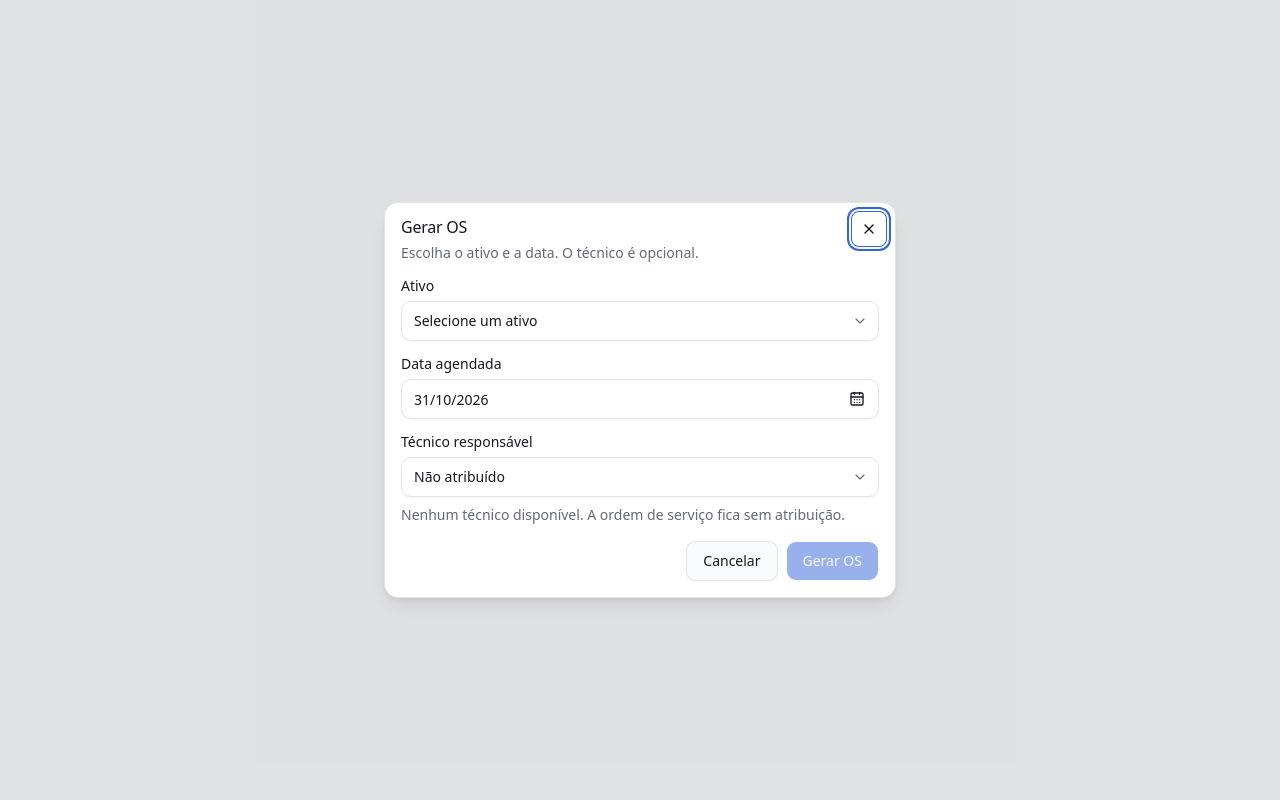
Scenario: GenerateWorkOrderDialog › hides assets scheduled for deletion when the field is present
The image size is (1280, 800).
Click the dropdown labelled "ativo". click: (476, 320)
box: x1=401 y1=301 x2=879 y2=341
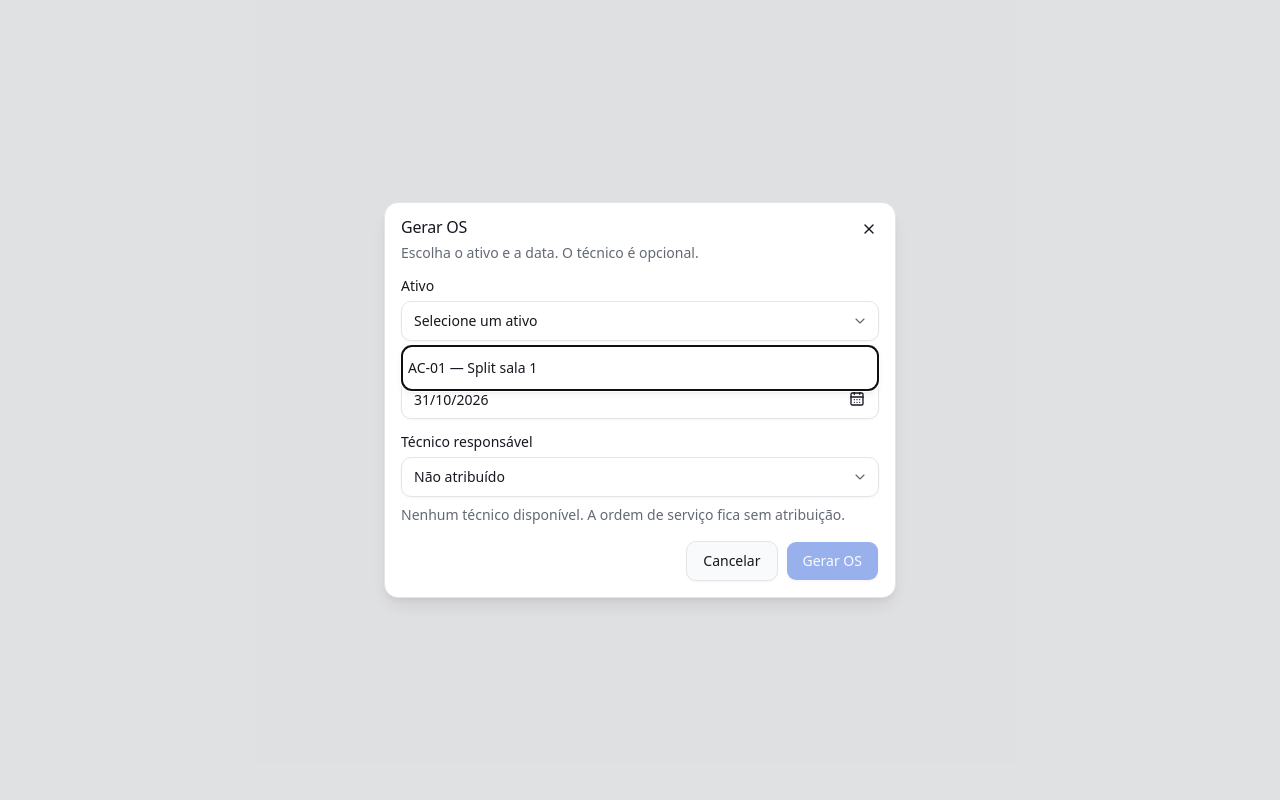
Expected: the option "AC-01 — Split sala 1" is shown, x1=408 y1=358 x2=537 y2=377
